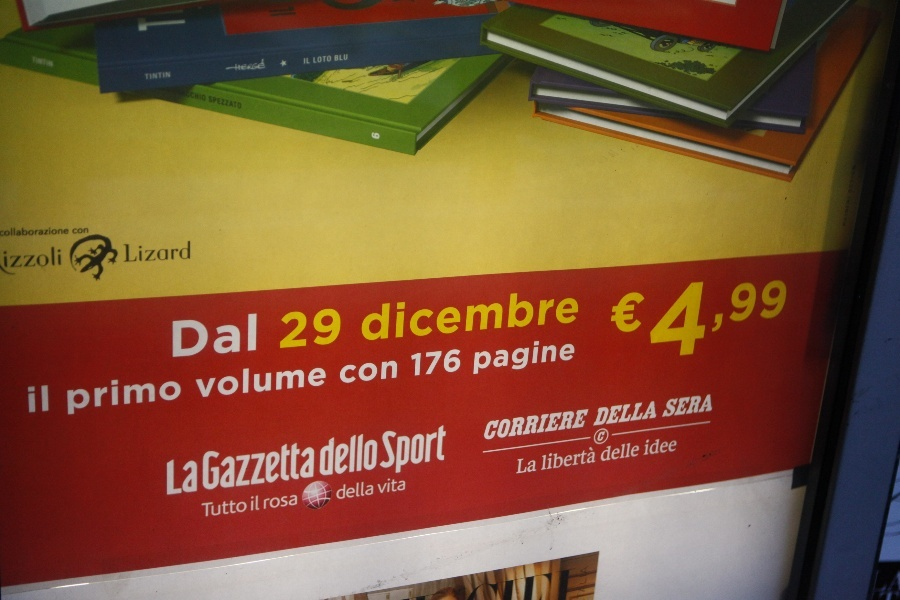text: (705, 278, 720, 363), (721, 278, 736, 363), (737, 278, 752, 363), (753, 278, 768, 363), (769, 278, 784, 363), (691, 278, 704, 363), (369, 290, 384, 343), (385, 290, 400, 343), (401, 290, 416, 343), (417, 290, 432, 343), (433, 290, 448, 343), (449, 290, 464, 343), (465, 290, 480, 343), (481, 290, 496, 343), (497, 290, 512, 343), (513, 290, 528, 343), (529, 290, 544, 343), (545, 290, 560, 343), (561, 290, 576, 343), (209, 441, 224, 493), (225, 441, 240, 493), (241, 441, 256, 493), (257, 441, 272, 493), (273, 441, 288, 493), (289, 441, 304, 493), (385, 425, 400, 477), (401, 425, 416, 477), (417, 425, 432, 477), (433, 425, 448, 477), (177, 312, 192, 361), (193, 312, 208, 361), (209, 312, 224, 361), (225, 312, 240, 361), (241, 312, 256, 361), (289, 306, 304, 351), (305, 306, 320, 351), (321, 306, 336, 351), (625, 292, 640, 336), (321, 434, 336, 478), (337, 434, 352, 478), (353, 434, 368, 478), (81, 376, 96, 417), (97, 376, 112, 417), (113, 376, 128, 417), (129, 376, 144, 417), (145, 376, 160, 417), (161, 376, 176, 417), (481, 336, 496, 376), (497, 336, 512, 376), (513, 336, 528, 376), (529, 336, 544, 376), (545, 336, 560, 376), (561, 336, 576, 376), (177, 460, 192, 499), (305, 441, 316, 493), (67, 376, 80, 417), (193, 364, 208, 399), (209, 364, 224, 399), (225, 364, 240, 399), (241, 364, 256, 399), (257, 364, 272, 399), (273, 364, 288, 399), (289, 364, 304, 399), (305, 364, 320, 399), (497, 408, 512, 441), (513, 408, 528, 441), (529, 408, 544, 441), (545, 408, 560, 441), (561, 408, 576, 441), (33, 384, 48, 416), (417, 348, 432, 378), (433, 348, 448, 378), (577, 408, 590, 441), (353, 360, 368, 388), (369, 360, 384, 388), (641, 401, 657, 427), (615, 292, 624, 336), (385, 360, 399, 388), (166, 460, 176, 499), (609, 401, 624, 427), (625, 401, 640, 427), (545, 446, 560, 471), (561, 446, 576, 471), (577, 446, 592, 471), (449, 348, 461, 378), (673, 394, 688, 418), (689, 394, 704, 418), (369, 434, 377, 478), (17, 246, 32, 268), (33, 246, 48, 268), (129, 241, 144, 263), (145, 241, 160, 263), (161, 241, 176, 263), (609, 441, 624, 462), (625, 441, 640, 462), (177, 241, 191, 263), (353, 481, 368, 501), (3, 246, 16, 268), (49, 246, 62, 268), (342, 360, 352, 388), (473, 336, 480, 376), (338, 481, 352, 501), (282, 306, 288, 351), (641, 292, 647, 336), (203, 441, 208, 493), (598, 401, 608, 427), (657, 439, 672, 456), (209, 500, 224, 517), (225, 500, 240, 517), (385, 477, 400, 494), (273, 494, 288, 510), (489, 408, 496, 441), (209, 96, 224, 110), (225, 96, 240, 110), (241, 59, 256, 73), (321, 364, 327, 399), (177, 376, 182, 417), (226, 59, 240, 73), (172, 312, 176, 361), (26, 384, 32, 416), (705, 394, 713, 418), (33, 56, 48, 68), (337, 306, 341, 351), (785, 278, 787, 363), (646, 439, 656, 456), (1, 226, 16, 237), (17, 226, 32, 237), (33, 226, 48, 237), (49, 226, 64, 237), (365, 290, 368, 343), (577, 290, 580, 343), (193, 460, 197, 499), (375, 477, 384, 494), (411, 348, 416, 378), (518, 459, 528, 474), (263, 494, 272, 510), (289, 494, 298, 510), (193, 91, 206, 102), (257, 59, 267, 73), (145, 72, 160, 80), (529, 459, 537, 474), (123, 241, 128, 263), (372, 132, 384, 141), (603, 441, 608, 462), (382, 425, 384, 477), (202, 500, 208, 517), (241, 500, 247, 517), (369, 481, 374, 501), (599, 431, 608, 442), (668, 394, 672, 418), (321, 55, 331, 64), (273, 8, 288, 14), (273, 12, 288, 18), (337, 54, 348, 62), (251, 495, 256, 512), (401, 477, 406, 494), (161, 72, 171, 80), (593, 446, 596, 471), (673, 439, 677, 456), (186, 91, 192, 102), (313, 55, 320, 64), (49, 56, 54, 68), (81, 228, 89, 235), (257, 495, 260, 512), (542, 446, 544, 471), (73, 228, 80, 235), (257, 312, 258, 361), (289, 12, 297, 18), (65, 226, 69, 237), (289, 8, 295, 14), (305, 58, 310, 65), (49, 384, 50, 416), (269, 8, 272, 14), (241, 96, 242, 110), (335, 54, 336, 62), (271, 12, 272, 18)
